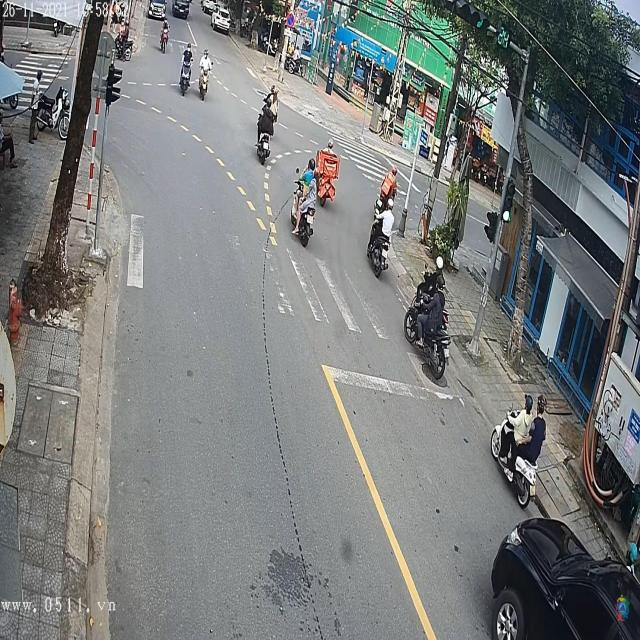car: (488, 514, 639, 638), (149, 2, 167, 20), (172, 2, 190, 19)
motorcycle: (491, 402, 538, 509), (402, 290, 450, 384), (368, 206, 392, 276), (290, 189, 317, 250), (198, 57, 212, 101), (256, 134, 272, 162), (180, 70, 192, 97)
